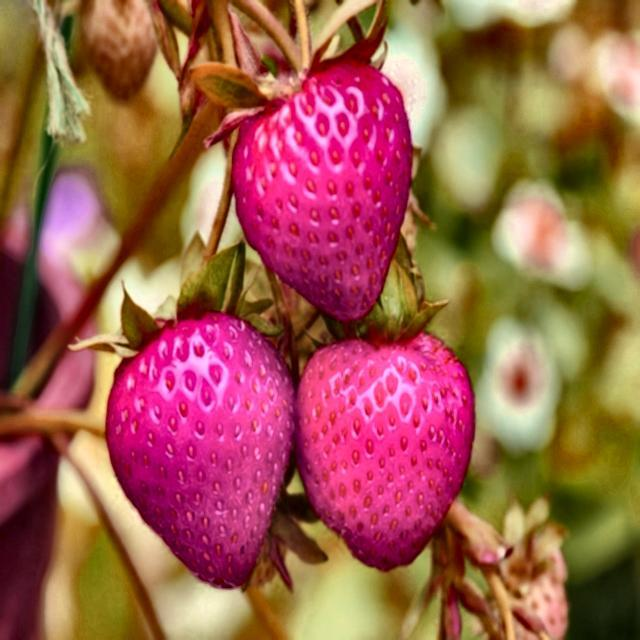strawberry: (106, 312, 294, 588), (232, 61, 412, 321), (296, 332, 474, 571)
